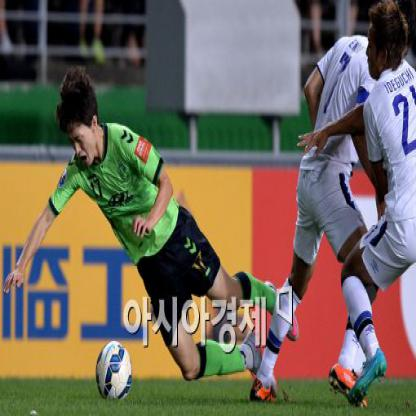Fall_Down: (3, 68, 300, 391)
